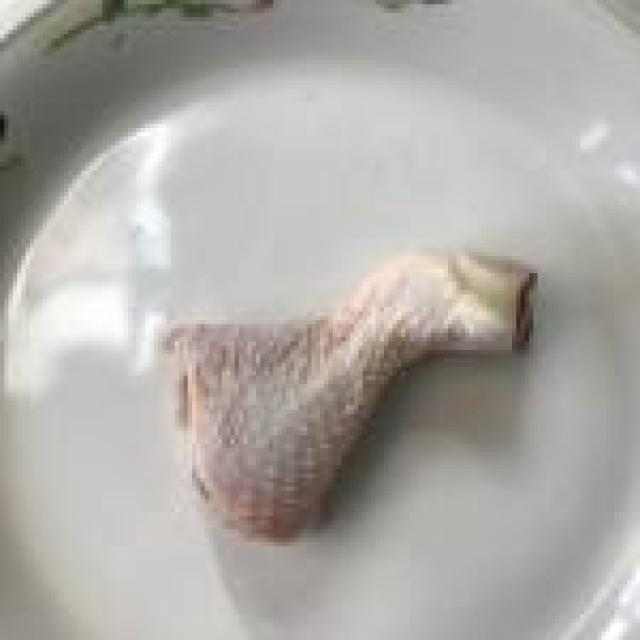leg: (138, 232, 558, 540)
